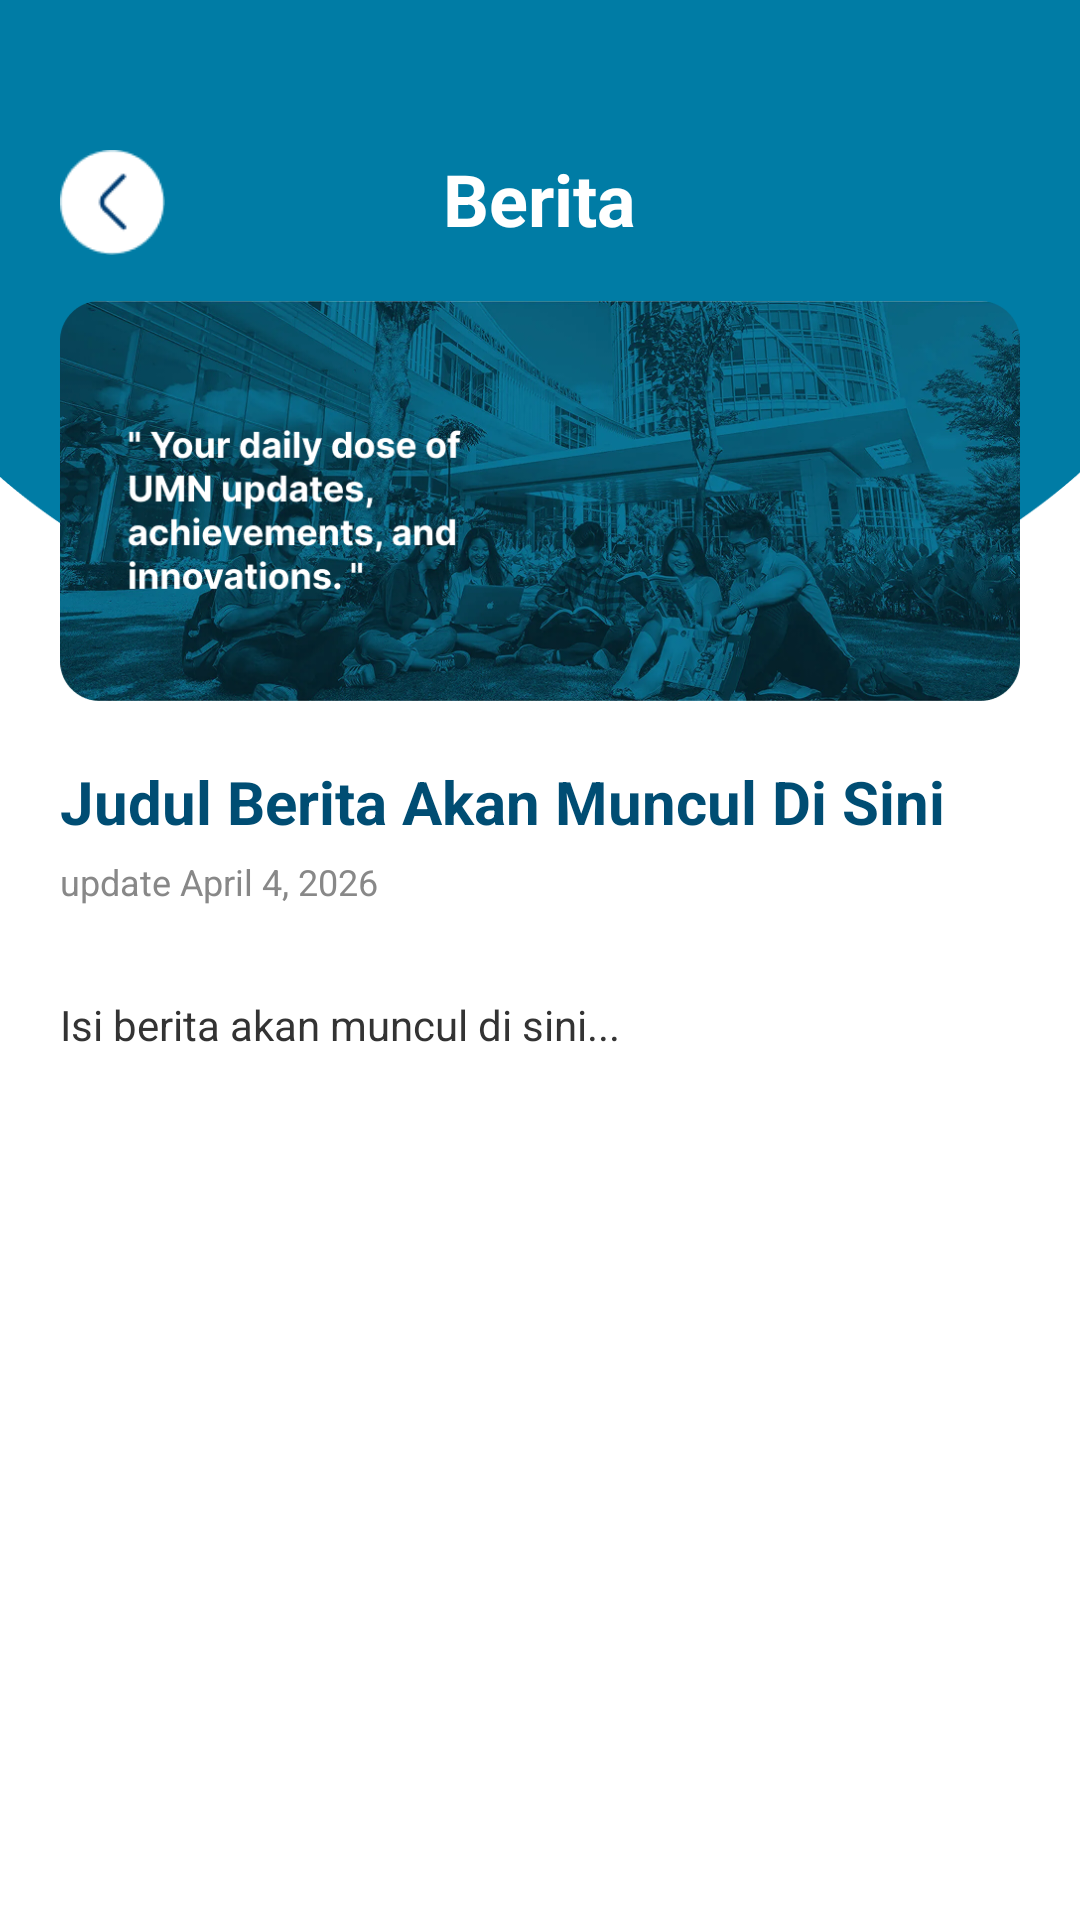

Screen size 1080px x 1920px. Icon name, then its box in pixels as {"x1": x1, "y1": y1, "x2": x2, "y2": y2}:
back: {"x1": 60, "y1": 150, "x2": 165, "y2": 255}
